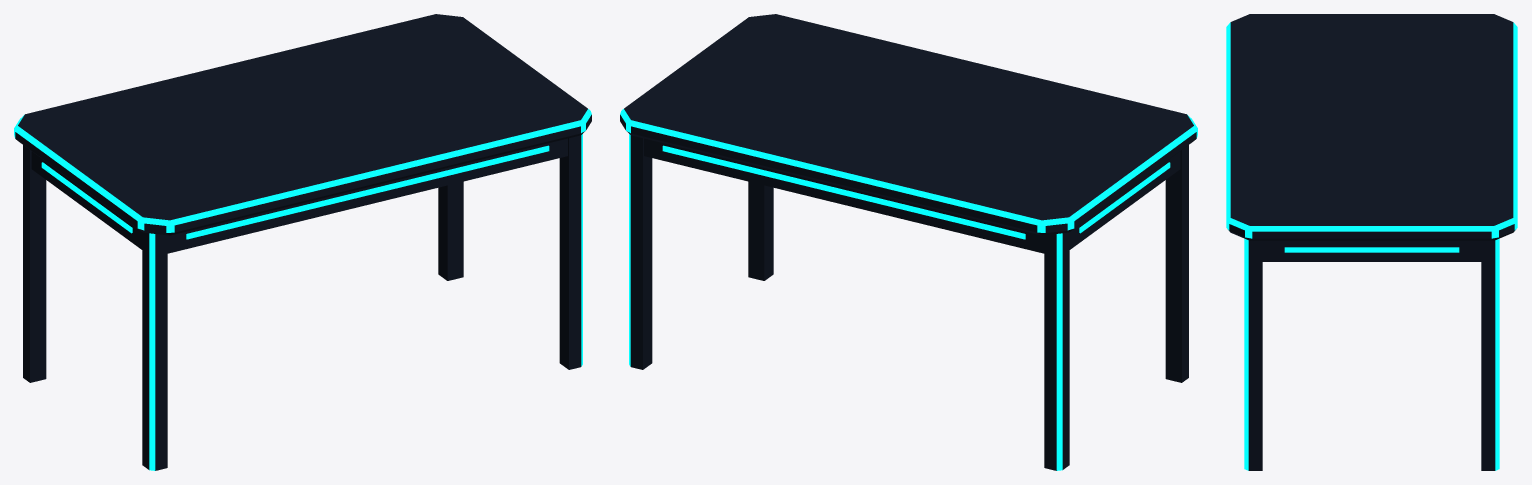
The model's file is neon-grid-table.glb.
The picture shows the model from 3 angles, left to right: view 1: azimuth 30°, elevation 25°; view 2: azimuth 150°, elevation 25°; view 3: azimuth 270°, elevation 25°; orthographic projection. The views are drawn at different scales.
Visible parts, largest first — view 1: NeonGridTable; view 2: NeonGridTable; view 3: NeonGridTable.
Boxes of the visible parts, x1=… form: NeonGridTable: x1=14, y1=14, x2=591, y2=470; NeonGridTable: x1=620, y1=14, x2=1197, y2=470; NeonGridTable: x1=1226, y1=14, x2=1517, y2=470.
Bounding box in the file's own units: 1.4 × 0.75 × 0.8.
